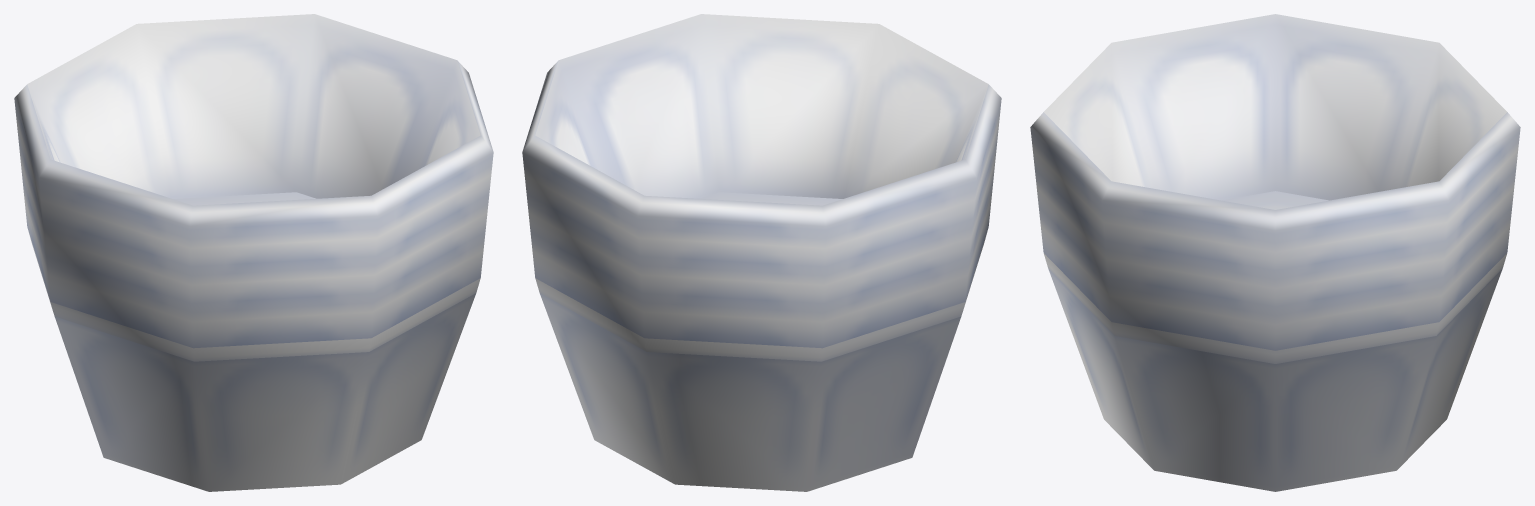
Rendered from jsf_ShavedIceCup_01_Set01.fbx.
3 renders of one model, left to right at view 1: azimuth 30°, elevation 25°; view 2: azimuth 150°, elevation 25°; view 3: azimuth 270°, elevation 25°, orthographic.
Visible parts, largest first — view 1: jsf_ShavedIceCup_01_Set01; view 2: jsf_ShavedIceCup_01_Set01; view 3: jsf_ShavedIceCup_01_Set01.
Part boxes in pixels (box(x1,y1,x2,y2)): jsf_ShavedIceCup_01_Set01: box(14, 14, 493, 491); jsf_ShavedIceCup_01_Set01: box(522, 14, 1001, 491); jsf_ShavedIceCup_01_Set01: box(1030, 14, 1520, 491).
Size of the model in its own units: 12 by 8.3 by 12.
